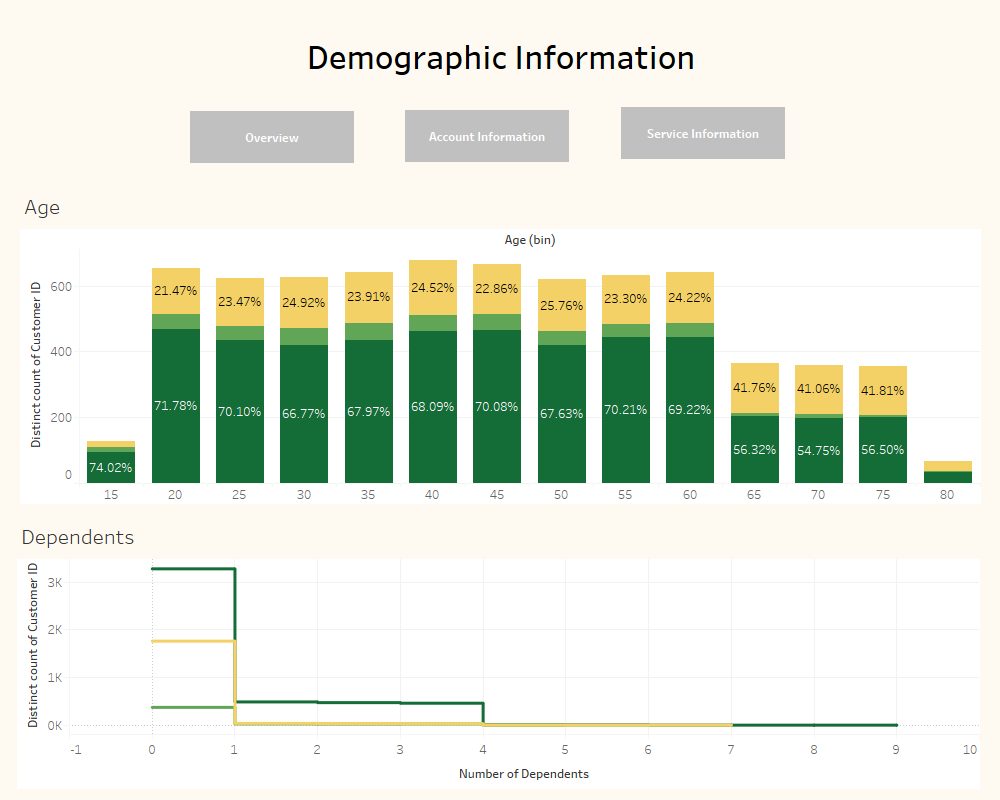

This screenshot's page, from the dashboard's own definition file:
{"tool":"tableau","page":{"name":"Demographic Information","canvas":[1000,800],"ordinal":2},"visuals":[{"type":"text","box":[10,11,982,90]},{"type":"dashboard-object","box":[621,107,164,52]},{"type":"dashboard-object","box":[405,110,164,52]},{"type":"dashboard-object","box":[190,111,164,52]},{"type":"worksheet","title":"Age","mark":"Automatic","rows":["Customer ID"],"cols":["Age (bin)"],"box":[20,186,960,318]},{"type":"worksheet","title":"Dependents","mark":"Automatic","rows":["Customer ID"],"cols":["Number of Dependents"],"box":[17,516,962,273]}]}

Visuals, with their boxes in screenshot pixels (x1, y1, x2, y2), scaled from the page's 1000x800 canvas onto the 1000x800 screenshot:
text: {"left": 10, "top": 11, "right": 992, "bottom": 101}
dashboard-object: {"left": 621, "top": 107, "right": 785, "bottom": 159}
dashboard-object: {"left": 405, "top": 110, "right": 569, "bottom": 162}
dashboard-object: {"left": 190, "top": 111, "right": 354, "bottom": 163}
"Age" worksheet: {"left": 20, "top": 186, "right": 980, "bottom": 504}
"Dependents" worksheet: {"left": 17, "top": 516, "right": 979, "bottom": 789}
